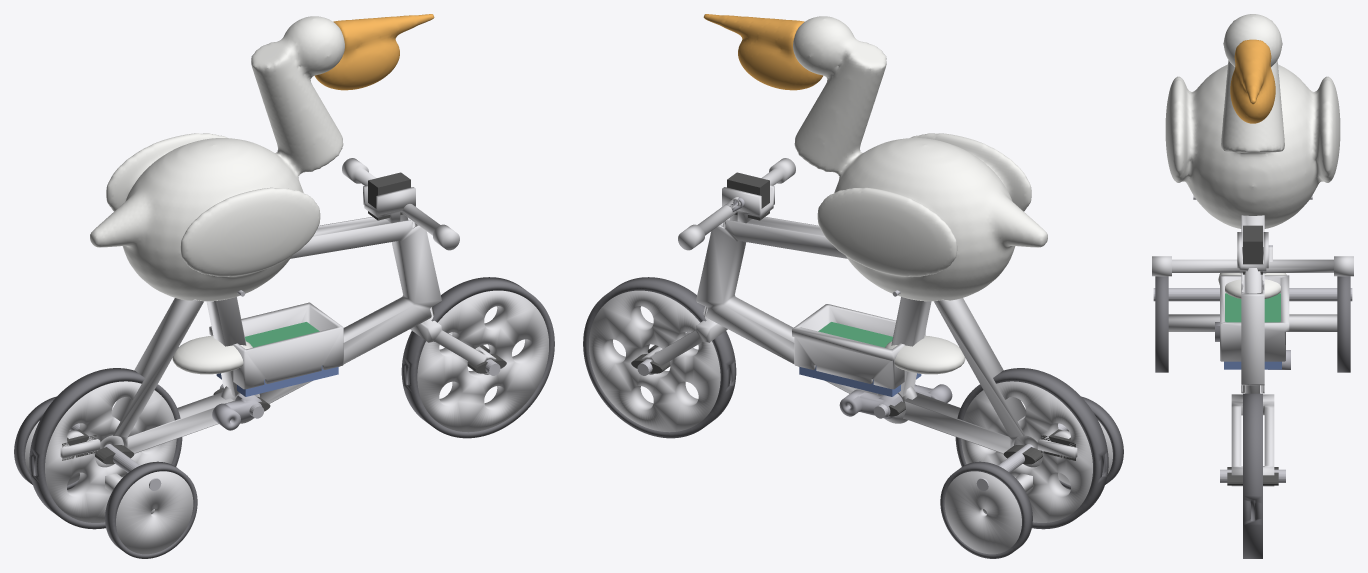
The model's file is total_assembly.glb.
The picture shows the model from 3 angles, left to right: view 1: azimuth 30°, elevation 25°; view 2: azimuth 150°, elevation 25°; view 3: azimuth 270°, elevation 25°; orthographic projection.
Visible parts, largest first — view 1: pelican_body_tpu, frame_petg, wheel_rim_petg.001, wheel_rim_petg, electronics_tray_petg, train_rim_petg.001, pelican_beak_tpu, wheel_tire_tpu.001, wheel_tire_tpu, train_tire_tpu.001, pelican_belly_plug_tpu, handlebar_petg (+7 smaller); view 2: pelican_body_tpu, frame_petg, wheel_rim_petg.001, wheel_rim_petg, electronics_tray_petg, train_rim_petg, pelican_beak_tpu, wheel_tire_tpu.001, wheel_tire_tpu, train_tire_tpu, pelican_belly_plug_tpu, handlebar_petg (+7 smaller); view 3: pelican_body_tpu, frame_petg, wheel_tire_tpu.001, pelican_beak_tpu, handlebar_petg, electronics_tray_petg, fork_petg, axle_rear, train_tire_tpu, train_tire_tpu.001, pcb_carrier, servo_MG90S (+3 smaller).
Part boxes in pixels (<box>): pelican_body_tpu: <box>90,16,344,301</box>; frame_petg: <box>60,217,441,514</box>; wheel_rim_petg.001: <box>417,290,548,432</box>; wheel_rim_petg: <box>45,381,176,522</box>; electronics_tray_petg: <box>209,302,343,389</box>; train_rim_petg.001: <box>116,471,193,554</box>; pelican_beak_tpu: <box>315,14,434,90</box>; wheel_tire_tpu.001: <box>401,277,554,438</box>; wheel_tire_tpu: <box>29,368,182,529</box>; train_tire_tpu.001: <box>105,461,197,558</box>; pelican_belly_plug_tpu: <box>172,335,252,374</box>; handlebar_petg: <box>342,158,459,250</box>; pelican_body_tpu: <box>793,16,1047,301</box>; frame_petg: <box>696,217,1077,514</box>; wheel_rim_petg.001: <box>589,290,720,432</box>; wheel_rim_petg: <box>961,381,1092,522</box>; electronics_tray_petg: <box>792,304,925,389</box>; train_rim_petg: <box>944,471,1021,554</box>; pelican_beak_tpu: <box>703,14,822,90</box>; wheel_tire_tpu.001: <box>583,277,736,438</box>; wheel_tire_tpu: <box>955,368,1108,529</box>; train_tire_tpu: <box>940,461,1032,558</box>; pelican_belly_plug_tpu: <box>885,335,965,374</box>; handlebar_petg: <box>678,158,795,250</box>; pelican_body_tpu: <box>1165,14,1340,228</box>; frame_petg: <box>1168,215,1337,393</box>; wheel_tire_tpu.001: <box>1243,393,1262,558</box>; pelican_beak_tpu: <box>1230,39,1275,123</box>; handlebar_petg: <box>1152,256,1353,276</box>; electronics_tray_petg: <box>1220,275,1289,361</box>; fork_petg: <box>1231,246,1274,486</box>; axle_rear: <box>1153,288,1352,301</box>; train_tire_tpu: <box>1337,276,1350,372</box>; train_tire_tpu.001: <box>1155,276,1168,372</box>; pcb_carrier: <box>1225,293,1280,322</box>; servo_MG90S: <box>1243,225,1262,274</box>.
Size of the model in its own units: 0.36 by 0.3029 by 0.122.
